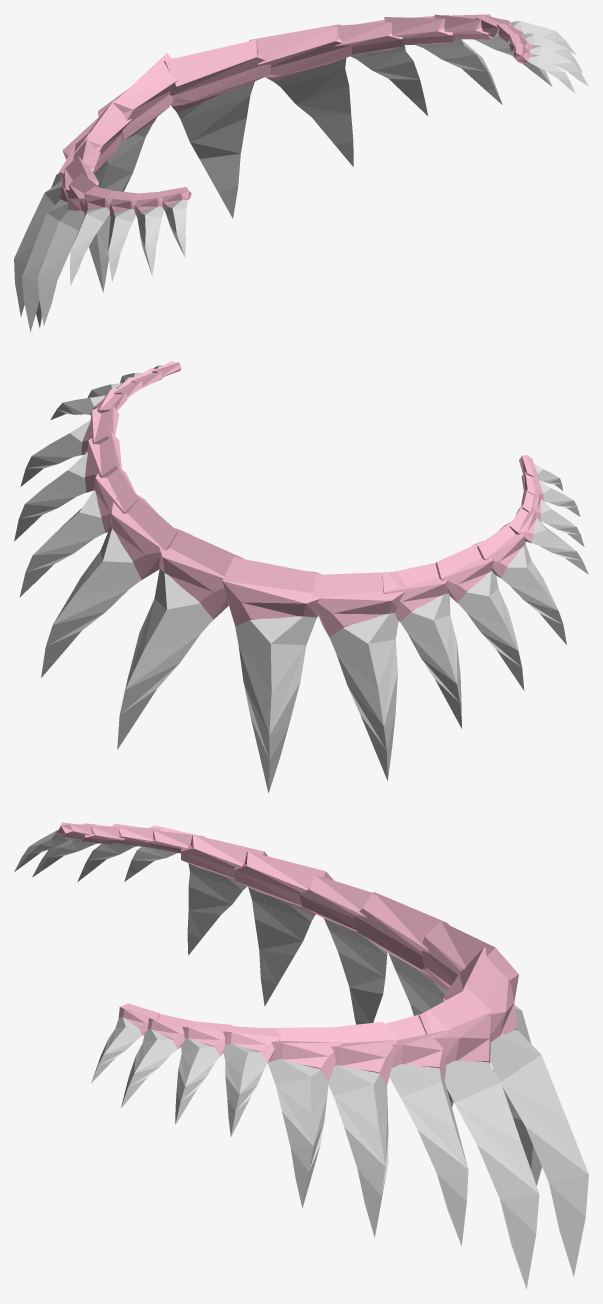
The picture shows the model from 3 angles, top to bottom: view 1: azimuth 30°, elevation 25°; view 2: azimuth 150°, elevation 25°; view 3: azimuth 270°, elevation 25°; orthographic projection. The views are drawn at different scales.
Visible parts, largest first — view 1: group_775173148, mesh_2062884796, group_1830049063, mesh_126289314, mesh_1035787740, group_1688784022, group_530824527, group_348429536, group_998101702, mesh_46180860, group_1097471629, mesh_1151164973 (+19 smaller); view 2: group_1688784022, group_775173148, group_2041456493, group_1830049063, mesh_1035787740, mesh_46180860, group_1513417120, mesh_2062884796, mesh_126289314, group_998101702, group_348429536, group_530824527 (+12 smaller); view 3: group_775173148, group_1830049063, group_348429536, group_1097471629, group_1021984469, mesh_46180860, group_998101702, mesh_126289314, group_1513417120, mesh_1035787740, mesh_2073799731, mesh_2062884796 (+23 smaller).
Part boxes in pixels (box(x1,y1,x2,y2)): group_775173148: box(177, 81, 254, 218); mesh_2062884796: box(164, 40, 270, 112); group_1830049063: box(274, 58, 353, 166); mesh_126289314: box(249, 24, 351, 81); mesh_1035787740: box(98, 53, 178, 140); group_1688784022: box(89, 123, 152, 292); group_530824527: box(37, 210, 84, 325); group_348429536: box(350, 44, 427, 115); group_998101702: box(22, 199, 68, 332); mesh_46180860: box(62, 99, 131, 173); group_1097471629: box(416, 39, 502, 104); mesh_1151164973: box(323, 19, 403, 55); group_1688784022: box(235, 616, 316, 793); group_775173148: box(117, 569, 213, 749); group_2041456493: box(329, 613, 398, 780); group_1830049063: box(41, 527, 141, 677); mesh_1035787740: box(222, 557, 321, 626); mesh_46180860: box(312, 572, 406, 636); group_1513417120: box(400, 593, 461, 728); mesh_2062884796: box(159, 528, 243, 619); mesh_126289314: box(111, 491, 177, 580); group_998101702: box(458, 570, 524, 690); group_348429536: box(19, 490, 105, 597); group_530824527: box(501, 543, 566, 644); group_775173148: box(490, 1029, 588, 1276); group_1830049063: box(445, 1060, 539, 1288); group_348429536: box(389, 1064, 468, 1245); group_1097471629: box(328, 1065, 388, 1237); group_1021984469: box(267, 1059, 328, 1208); mesh_46180860: box(354, 892, 449, 990); group_998101702: box(248, 887, 314, 1006); mesh_126289314: box(418, 988, 491, 1064); group_1513417120: box(324, 918, 387, 1024); mesh_1035787740: box(421, 921, 518, 1001); mesh_2073799731: box(234, 851, 334, 915); mesh_2062884796: box(443, 947, 517, 1041).
Bounding box in the file's own units: 157 × 79.05 × 111.
